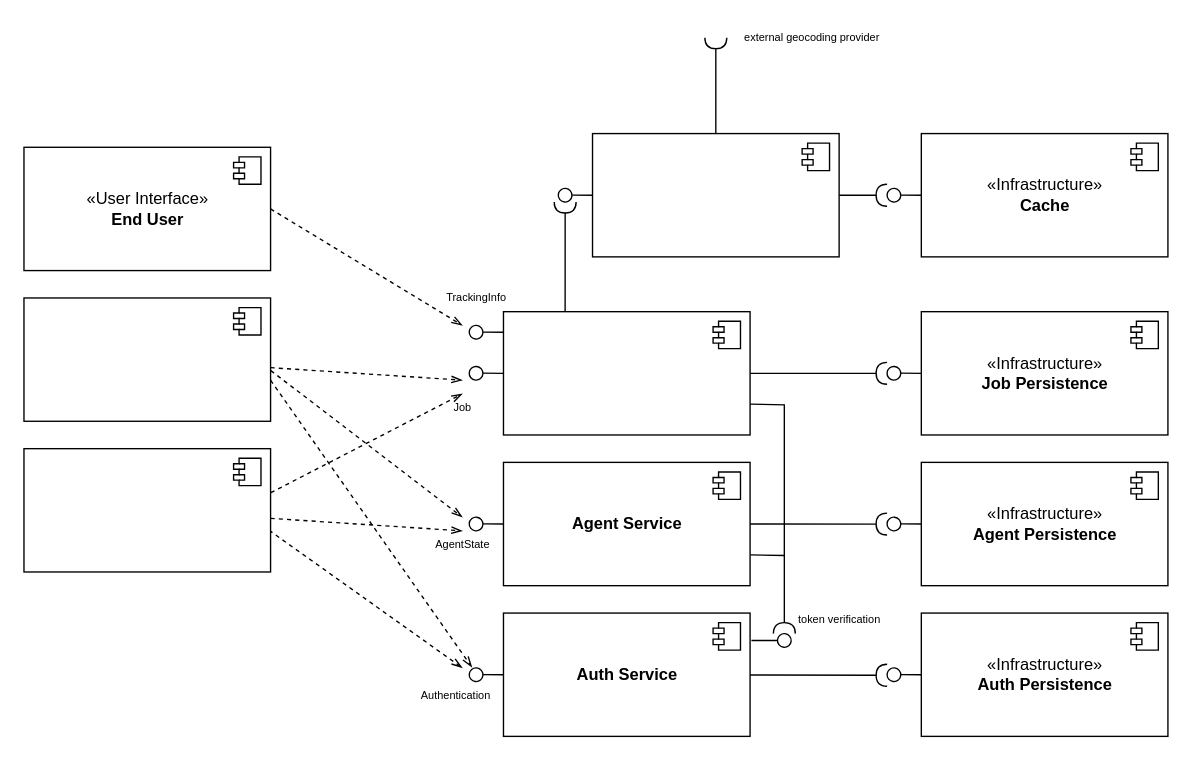
The diagram is 1192 pixels wide and 760 high, and some of its shapes have lost their labels. The box of each missing label's shape, as (x1, y1, x2, y2) in pixels:
Geocode Service: (591, 132, 839, 257)
Job Service: (502, 310, 750, 435)
«User Interface» Agent: (23, 297, 271, 421)
«User Interface» Provider: (23, 447, 271, 572)
